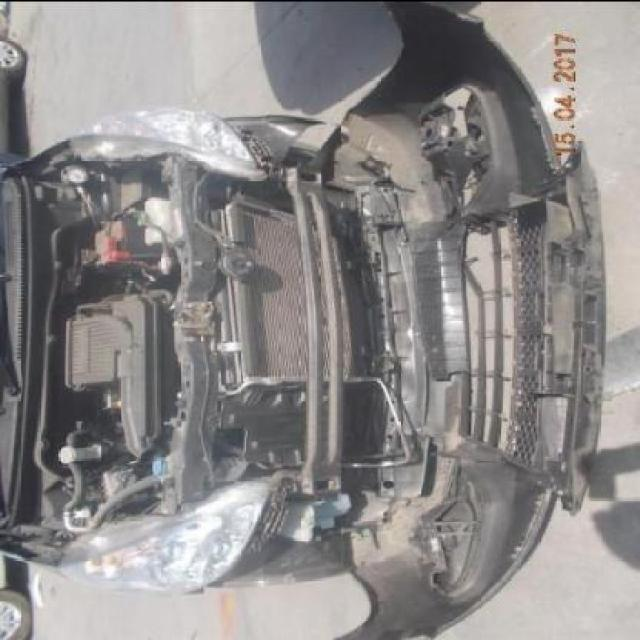damage: (60, 111, 355, 584)
